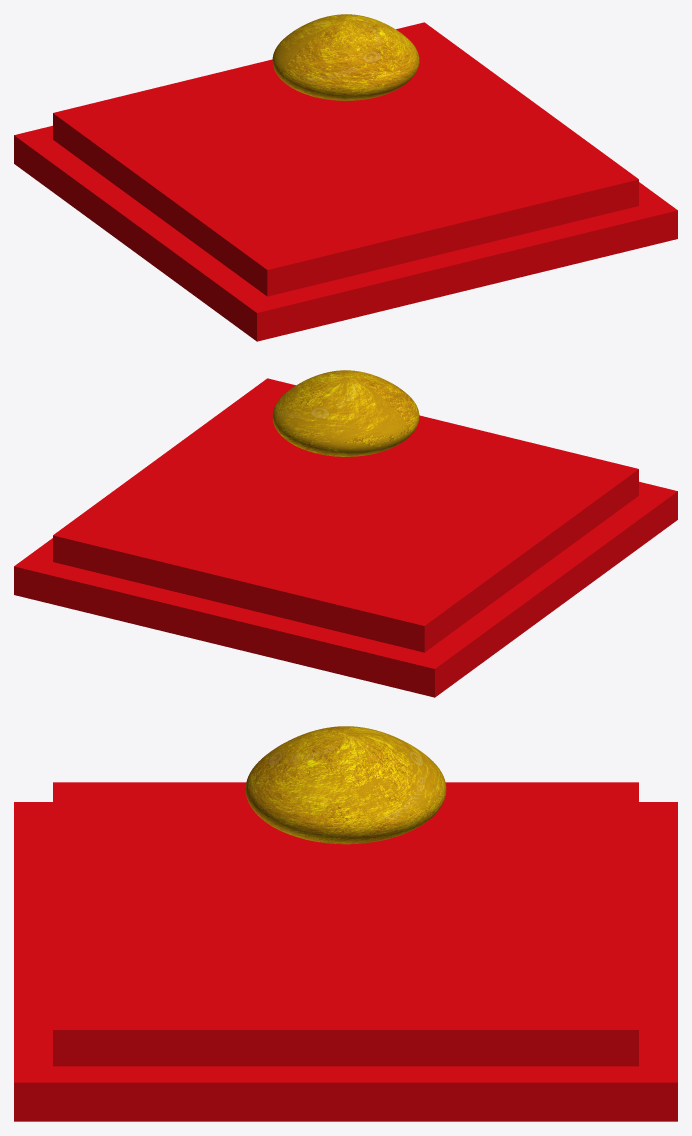
File: golden_egg.fbx
The picture shows the model from 3 angles, top to bottom: view 1: azimuth 30°, elevation 25°; view 2: azimuth 150°, elevation 25°; view 3: azimuth 270°, elevation 25°; orthographic projection. The views are drawn at different scales.
Visible parts, largest first — view 1: Cube, egg; view 2: Cube, egg; view 3: Cube, egg.
Boxes of the visible parts, box(x1,y1,x2,y2) form: Cube: box(14, 22, 677, 341); egg: box(272, 14, 419, 100); Cube: box(14, 378, 677, 697); egg: box(272, 370, 419, 456); Cube: box(14, 782, 677, 1121); egg: box(245, 726, 446, 844).
Bounding box in the file's own units: 8.94 × 8.94 × 3.66.
